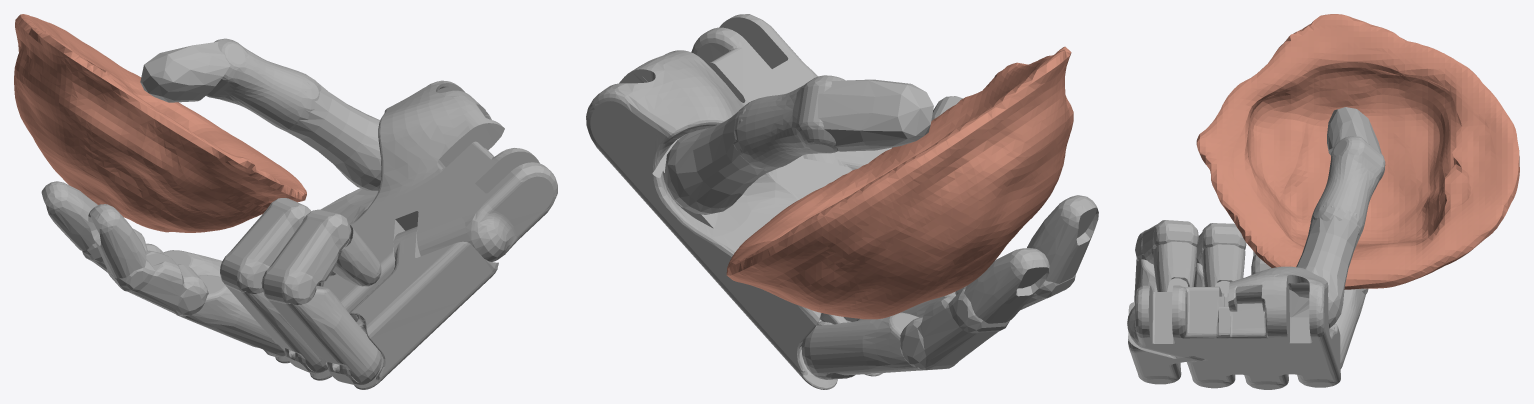
3 views of the same model, side by side, from view 1: azimuth 30°, elevation 25°; view 2: azimuth 150°, elevation 25°; view 3: azimuth 270°, elevation 25° (orthographic). The views are drawn at different scales.
Parts seen in each view (by area): view 1: world; view 2: world; view 3: world.
Boxes of the visible parts, box(x1,y1,x2,y2) form: world: box(14, 14, 557, 389); world: box(586, 14, 1098, 389); world: box(1127, 14, 1519, 389).
Bounding box in the file's own units: 1.13 × 0.8961 × 1.08.
